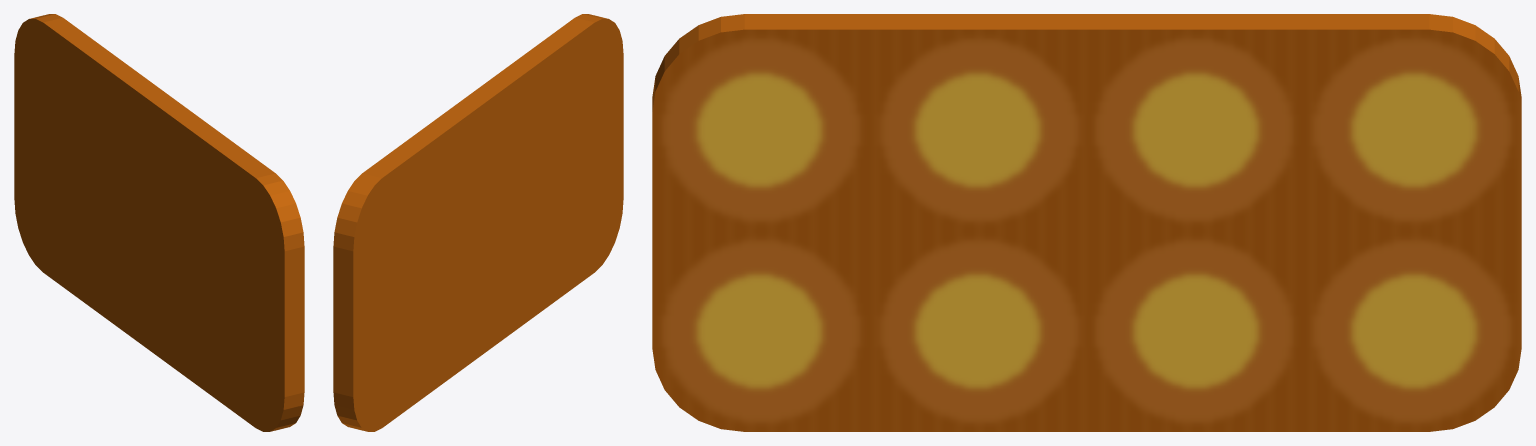
Rendered from turn_lens.dae.
3 views of the same model, side by side, from view 1: azimuth 30°, elevation 25°; view 2: azimuth 150°, elevation 25°; view 3: azimuth 270°, elevation 25° (orthographic). The views are drawn at different scales.
Visible parts, largest first — view 1: n; view 2: n; view 3: n.
Boxes of the visible parts, x1,y1,x2,y2 form: n: (14, 14, 304, 431); n: (333, 14, 623, 431); n: (652, 14, 1521, 431).
Size of the model in its own units: 0.002 by 0.047 by 0.024.
1 material, 1 textured.
